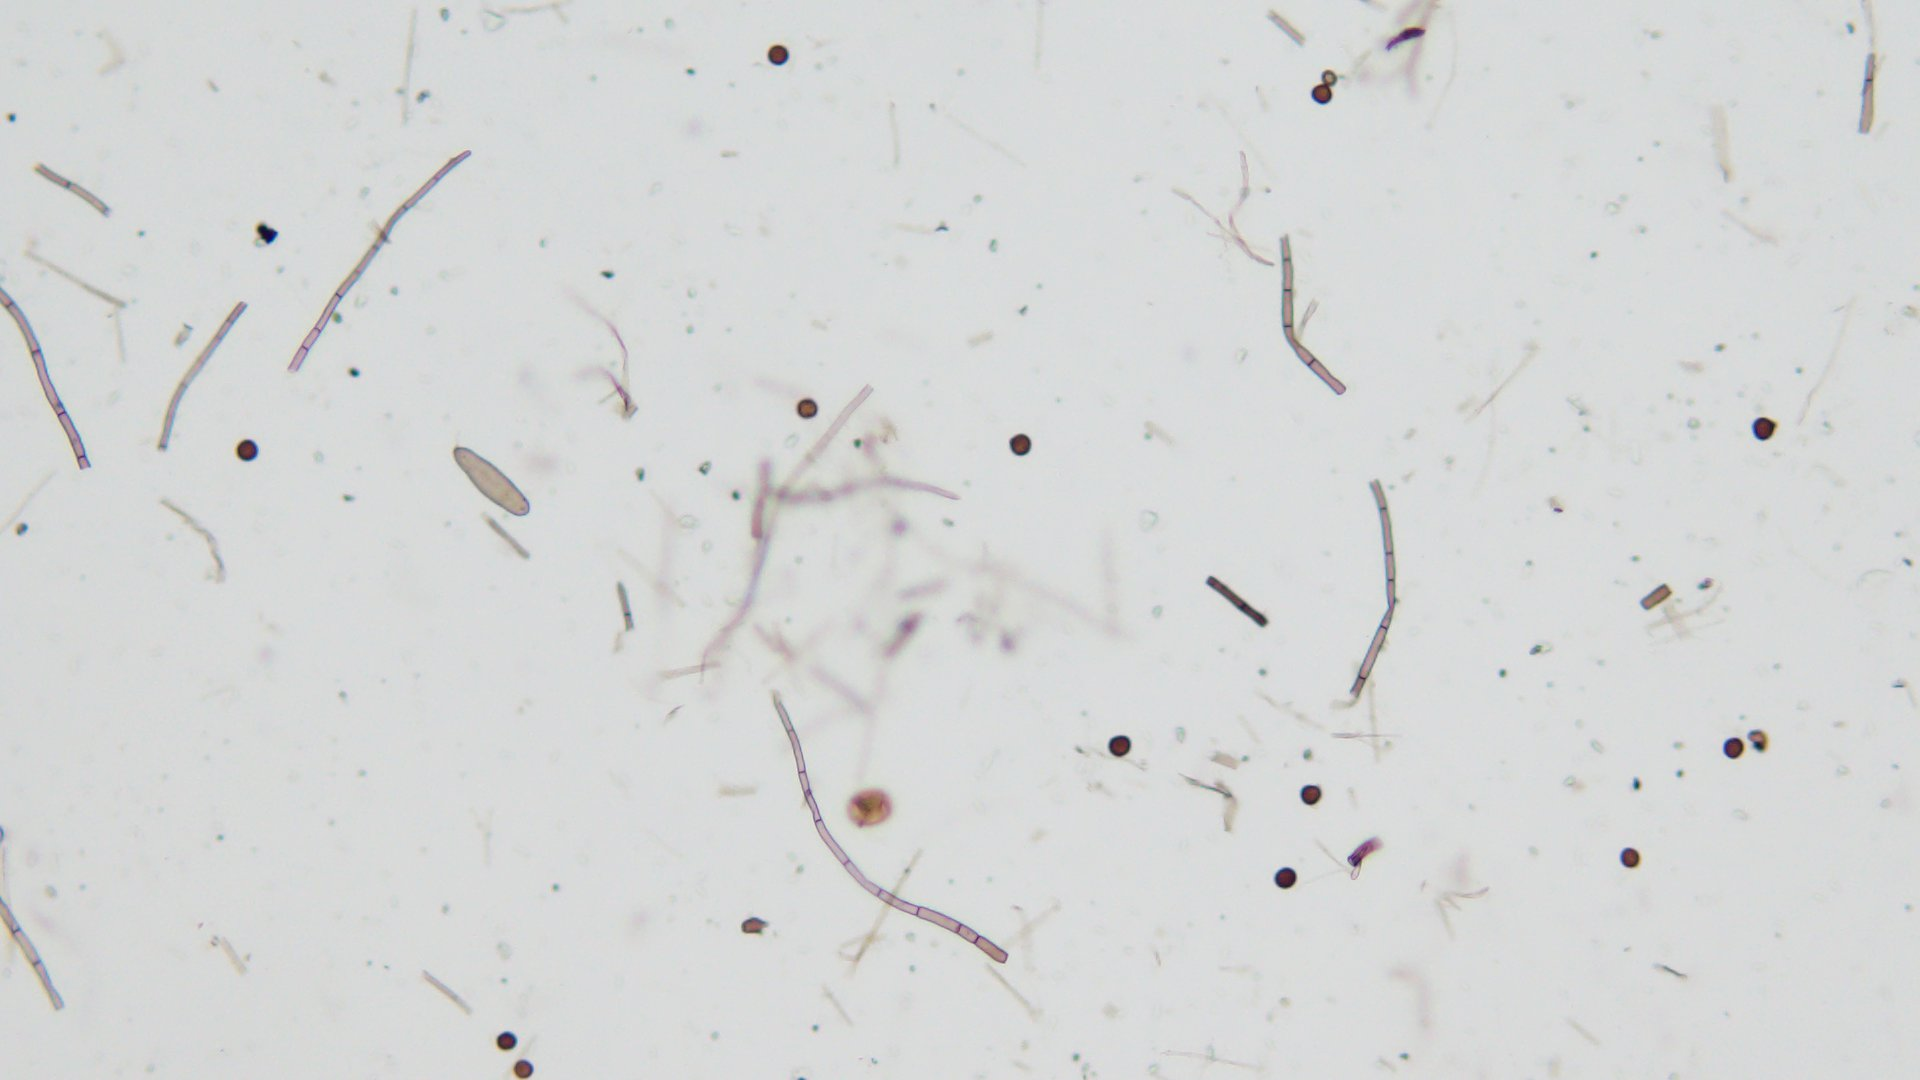dbb_spore: (454, 444, 530, 517)
shs_spore: (1753, 415, 1774, 444), (1275, 866, 1299, 891), (1010, 434, 1034, 458), (1106, 733, 1131, 756), (235, 439, 258, 462), (767, 45, 790, 66), (1302, 783, 1323, 804), (1309, 84, 1331, 105), (495, 1030, 517, 1050), (512, 1058, 534, 1077), (1725, 737, 1745, 760), (1621, 849, 1640, 868), (798, 398, 818, 415)
